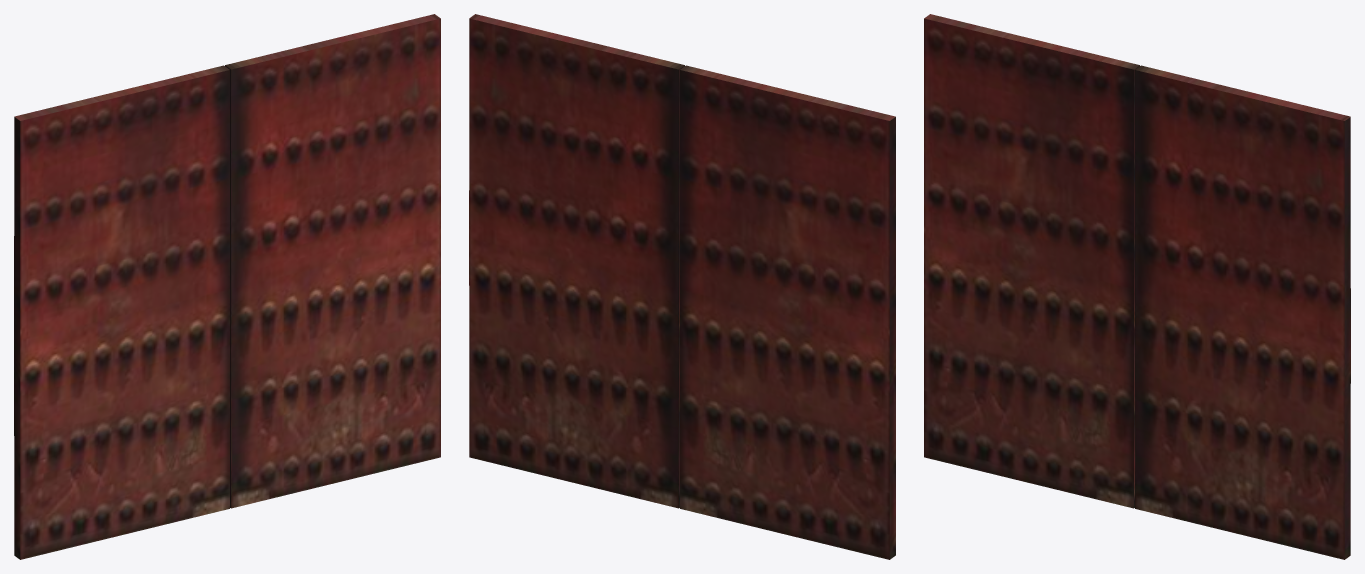
Rendered from sn03Door.obj.
The picture shows the model from 3 angles, left to right: view 1: azimuth 30°, elevation 25°; view 2: azimuth 150°, elevation 25°; view 3: azimuth 330°, elevation 25°; orthographic projection.
Visible parts, largest first — view 1: 0, 1; view 2: 0, 1; view 3: 1, 0.
Boxes of the visible parts, box(x1,y1,x2,y2) form: 0: box(14, 65, 229, 559); 1: box(225, 14, 440, 508); 0: box(680, 65, 895, 559); 1: box(469, 14, 684, 508); 1: box(1135, 65, 1350, 559); 0: box(924, 14, 1139, 508).
Bounding box in the file's own units: 201 × 200 × 5.1.
